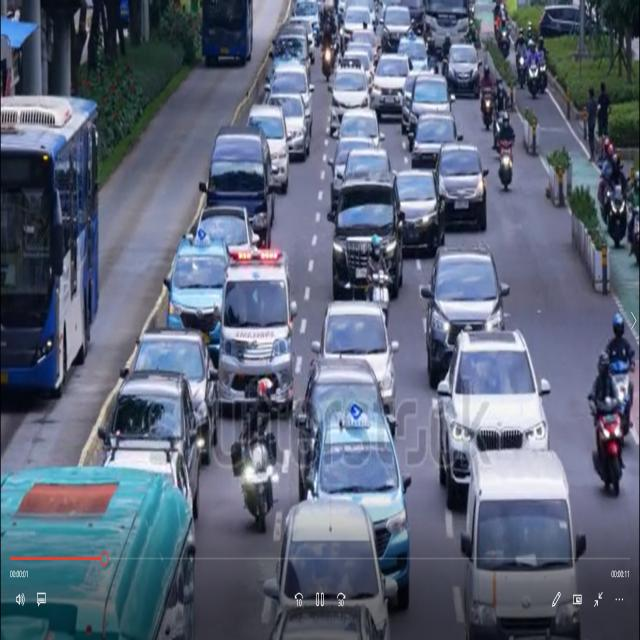Ambulance: (221, 248, 295, 422)
